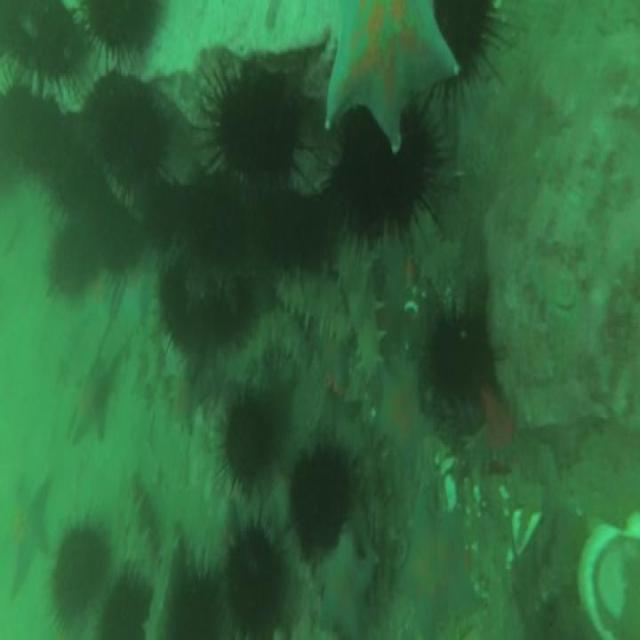echinus: (339, 118, 433, 242), (214, 63, 300, 177), (93, 84, 167, 182), (5, 3, 87, 81), (292, 444, 350, 552), (227, 531, 281, 638), (52, 526, 108, 626), (187, 172, 250, 255), (263, 190, 327, 268), (429, 316, 487, 401), (222, 397, 276, 488), (90, 0, 161, 52), (22, 96, 68, 176), (49, 226, 98, 300), (138, 182, 194, 246), (438, 0, 490, 68), (167, 575, 220, 640), (55, 150, 105, 215), (97, 204, 144, 272), (100, 575, 150, 634), (158, 275, 198, 348)
holothurian: (338, 243, 388, 381), (277, 275, 352, 343), (122, 494, 156, 588)
starfish: (327, 0, 461, 149), (396, 494, 476, 636), (6, 472, 50, 599), (319, 533, 373, 635), (378, 365, 432, 466), (68, 359, 116, 441), (168, 362, 204, 427)
